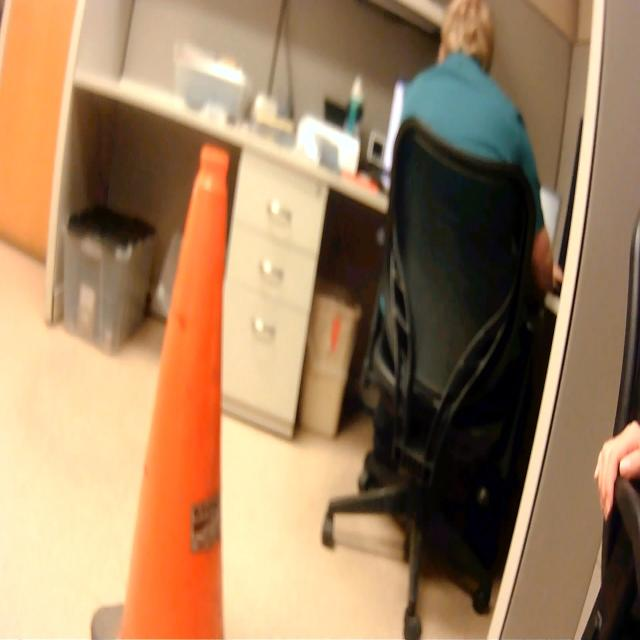traffic cone: (86, 134, 248, 640)
